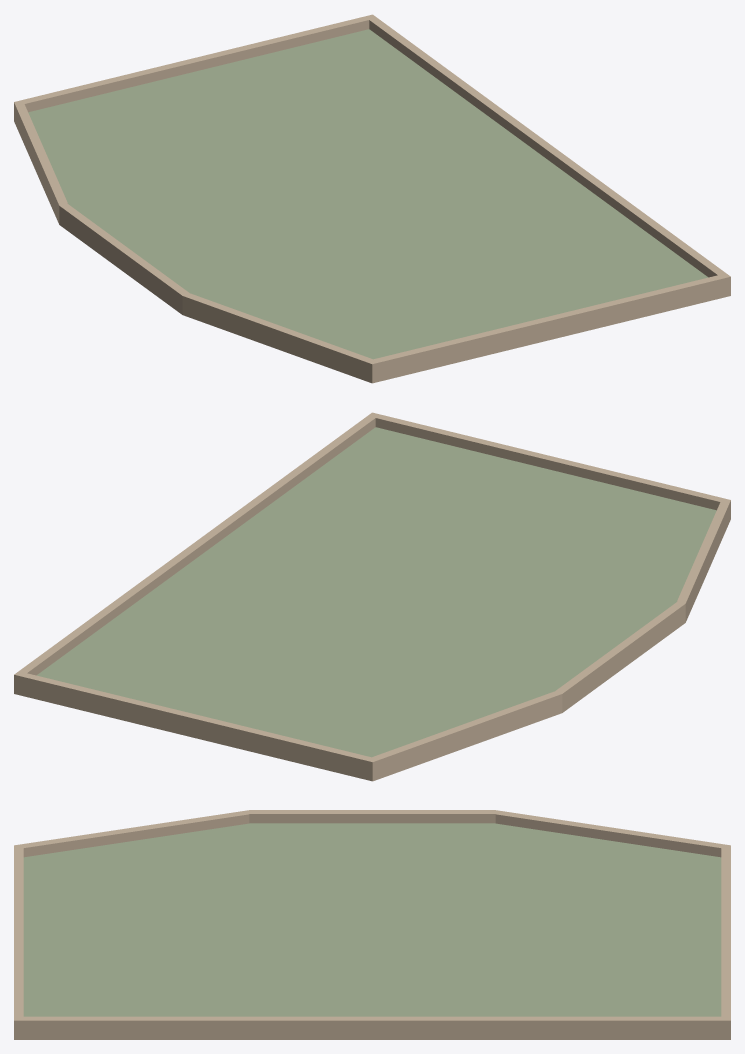
File: BC_NatureFrame_C.fbx
3 views of the same model, one above another, from view 1: azimuth 30°, elevation 25°; view 2: azimuth 150°, elevation 25°; view 3: azimuth 270°, elevation 25° (orthographic).
Visible parts, largest first — view 1: BC_NatureFrame_C; view 2: BC_NatureFrame_C; view 3: BC_NatureFrame_C.
Part boxes in pixels (<box>): BC_NatureFrame_C: <box>14,14,730,383</box>; BC_NatureFrame_C: <box>14,412,730,781</box>; BC_NatureFrame_C: <box>14,810,730,1039</box>.
Size of the model in its own units: 1877 by 80.13 by 2702.
